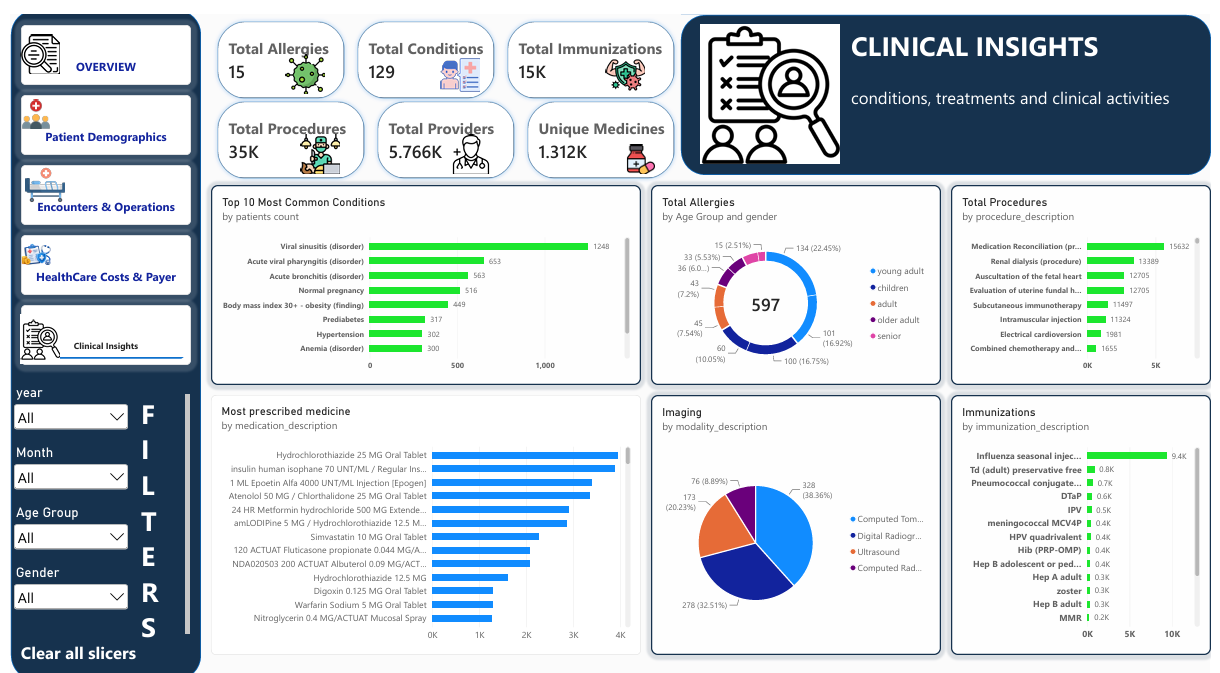

The page's visual inventory and layout, read from the dashboard file:
{"tool":"powerbi","page":{"name":"Clinical Insights","canvas":[1920,1080],"ordinal":4},"visuals":[{"type":"shape","box":[0,-8,304,1072],"z":0},{"type":"shape","box":[1072,0,848,256],"z":1000},{"type":"pageNavigator","title":"Ctrl+Click to follow","box":[16,16,272,96],"z":2000},{"type":"pageNavigator","title":"Ctrl+Click to follow","box":[16,128,272,96],"z":3000},{"type":"pageNavigator","title":"Ctrl+Click to follow","box":[16,240,272,96],"z":4000},{"type":"cardVisual","fields":{"Data":["procedures.total_procedures_happend"]},"box":[320,128,256,144],"z":5000},{"type":"pageNavigator","title":"Ctrl+Click to follow","box":[16,352,272,96],"z":6000},{"type":"pageNavigator","title":"Ctrl+Click to follow","box":[16,464,272,96],"z":7000},{"type":"textbox","box":[1344,0,560,224],"z":8000},{"type":"image","box":[1104,16,224,224],"z":9000},{"type":"cardVisual","fields":{"Data":["Count(allergies.allergy_description)"]},"box":[320,0,224,144],"z":10000},{"type":"cardVisual","fields":{"Data":["immunizations.total_immunizations"]},"box":[784,0,288,144],"z":11000},{"type":"cardVisual","fields":{"Data":["Count(conditions.condition_description)"]},"box":[544,0,240,144],"z":12000},{"type":"cardVisual","fields":{"Data":["Count(providers.provider_name)"]},"box":[576,128,240,144],"z":13000},{"type":"cardVisual","fields":{"Data":["Count(medications.medication_duration_days)"]},"box":[816,128,256,144],"z":14000},{"type":"barChart","fields":{"Category":["conditions.condition_description"],"Y":["CountNonNull(conditions.patient_id)"]},"box":[320,272,688,320],"z":15000},{"type":"donutChart","fields":{"Category":["patients.age_segmentation"],"Series":["patients.gender"],"Y":["allergies.total_allergies_records"]},"box":[1024,272,464,320],"z":16000},{"type":"barChart","fields":{"Category":["procedures.procedure_description"],"Y":["CountNonNull(procedures.procedure_description)"]},"box":[1504,272,416,320],"z":17000},{"type":"clusteredBarChart","fields":{"Category":["immunizations.immunization_description"],"Y":["CountNonNull(immunizations.immunization_description)"]},"box":[1504,608,416,416],"z":18000},{"type":"pieChart","fields":{"Category":["imaging_studies.modality_description"],"Y":["CountNonNull(imaging_studies.imaging_id)"]},"box":[1024,608,464,416],"z":19000},{"type":"clusteredBarChart","fields":{"Category":["medications.medication_description"],"Y":["CountNonNull(medications.patient_id)"]},"box":[320,608,688,416],"z":20000},{"type":"slicer","fields":{"Values":["encounters.year"]},"box":[0,592,192,96],"z":21000},{"type":"slicer","fields":{"Values":["encounters.month name"]},"box":[0,688,192,96],"z":22000},{"type":"slicer","fields":{"Values":["patients.age_segmentation"]},"box":[0,784,192,96],"z":23000},{"type":"slicer","fields":{"Values":["patients.gender"]},"box":[0,880,192,96],"z":24000},{"type":"textbox","box":[208,608,80,400],"z":25000},{"type":"actionButton","box":[0,984,216,72],"z":26000},{"type":"image","box":[400,64,144,64],"z":27000},{"type":"image","box":[672,64,96,64],"z":28000},{"type":"image","box":[912,64,144,64],"z":29000},{"type":"image","box":[464,192,64,64],"z":30000},{"type":"image","box":[704,192,64,64],"z":31000},{"type":"image","box":[976,208,64,48],"z":32000},{"type":"image","box":[0,32,96,64],"z":33000},{"type":"image","box":[16,128,48,64],"z":34000},{"type":"image","box":[0,240,112,64],"z":35000},{"type":"image","box":[0,336,80,96],"z":35001},{"type":"image","box":[16,480,64,80],"z":35002}]}

Visuals, with their boxes in screenshot pixels (x1, y1, x2, y2), scaled from the page's 1920x1080 canvas onto the 1220x673 screenshot:
shape: BBox(0, 0, 193, 663)
shape: BBox(681, 0, 1219, 160)
"Ctrl+Click to follow" pageNavigator: BBox(10, 10, 183, 70)
"Ctrl+Click to follow" pageNavigator: BBox(10, 80, 183, 140)
"Ctrl+Click to follow" pageNavigator: BBox(10, 150, 183, 209)
cardVisual - procedures.total_procedures_happend: BBox(203, 80, 366, 169)
"Ctrl+Click to follow" pageNavigator: BBox(10, 219, 183, 279)
"Ctrl+Click to follow" pageNavigator: BBox(10, 289, 183, 349)
textbox: BBox(854, 0, 1210, 140)
image: BBox(702, 10, 844, 150)
cardVisual - Count(allergies.allergy_description): BBox(203, 0, 346, 90)
cardVisual - immunizations.total_immunizations: BBox(498, 0, 681, 90)
cardVisual - Count(conditions.condition_description): BBox(346, 0, 498, 90)
cardVisual - Count(providers.provider_name): BBox(366, 80, 518, 169)
cardVisual - Count(medications.medication_duration_days): BBox(518, 80, 681, 169)
barChart - conditions.condition_description x CountNonNull(conditions.patient_id): BBox(203, 169, 640, 369)
donutChart - patients.age_segmentation x patients.gender: BBox(651, 169, 946, 369)
barChart - procedures.procedure_description x CountNonNull(procedures.procedure_description): BBox(956, 169, 1219, 369)
clusteredBarChart - immunizations.immunization_description x CountNonNull(immunizations.immunization_description): BBox(956, 379, 1219, 638)
pieChart - imaging_studies.modality_description x CountNonNull(imaging_studies.imaging_id): BBox(651, 379, 946, 638)
clusteredBarChart - medications.medication_description x CountNonNull(medications.patient_id): BBox(203, 379, 640, 638)
slicer - encounters.year: BBox(0, 369, 122, 429)
slicer - encounters.month name: BBox(0, 429, 122, 489)
slicer - patients.age_segmentation: BBox(0, 489, 122, 548)
slicer - patients.gender: BBox(0, 548, 122, 608)
textbox: BBox(132, 379, 183, 628)
actionButton: BBox(0, 613, 137, 658)
image: BBox(254, 40, 346, 80)
image: BBox(427, 40, 488, 80)
image: BBox(580, 40, 671, 80)
image: BBox(295, 120, 336, 160)
image: BBox(447, 120, 488, 160)
image: BBox(620, 130, 661, 160)
image: BBox(0, 20, 61, 60)
image: BBox(10, 80, 41, 120)
image: BBox(0, 150, 71, 189)
image: BBox(0, 209, 51, 269)
image: BBox(10, 299, 51, 349)
